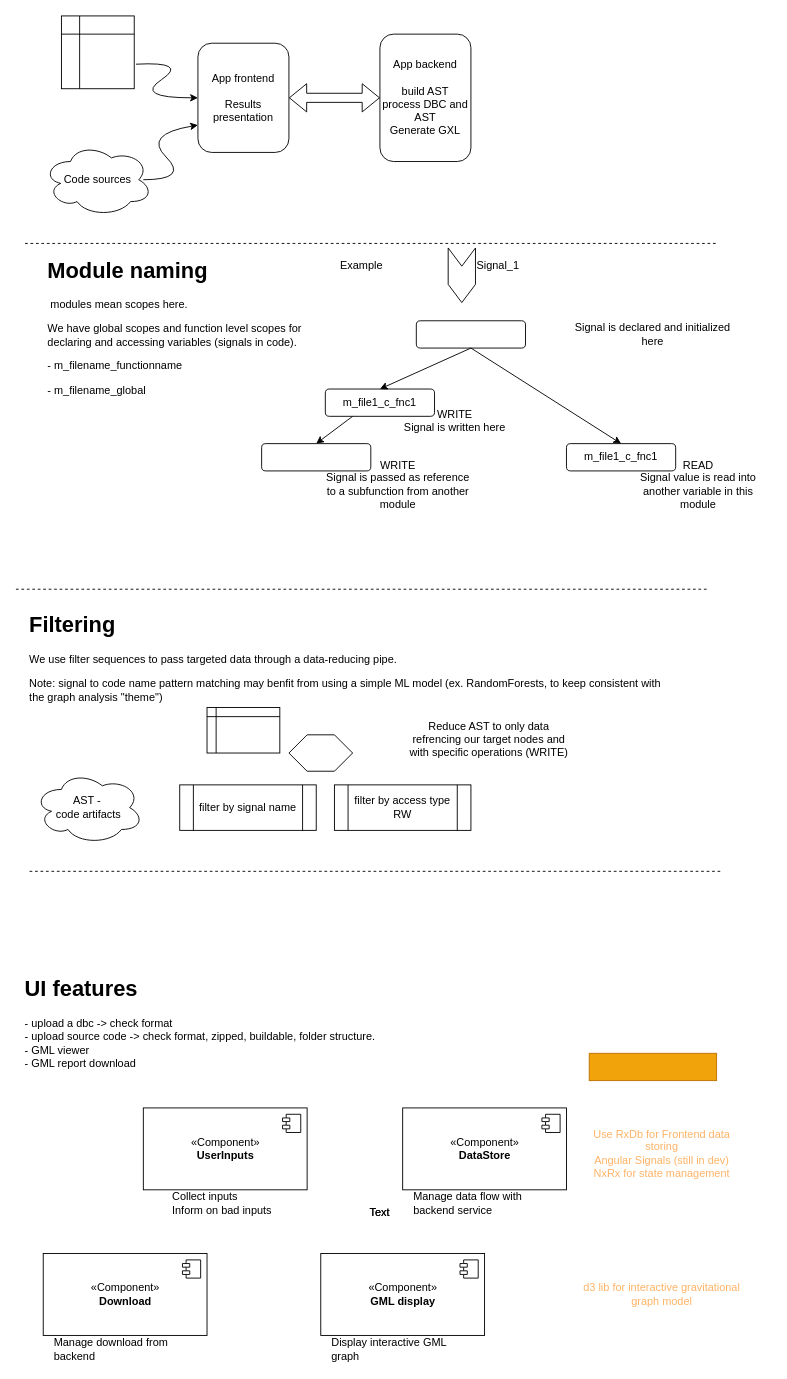
This 787x1379 diagram has some shape labels left out. Here are the shapes that lost their labels. From the top down, the centre of each, then its label:
point (97, 52): DBC file
point (470, 334): m_file1_c_global
point (316, 457): m_file2_c_fnc3
point (243, 730): DBC file signal lists
point (320, 752): ML model
point (652, 1066): Experimenting with Angular features
